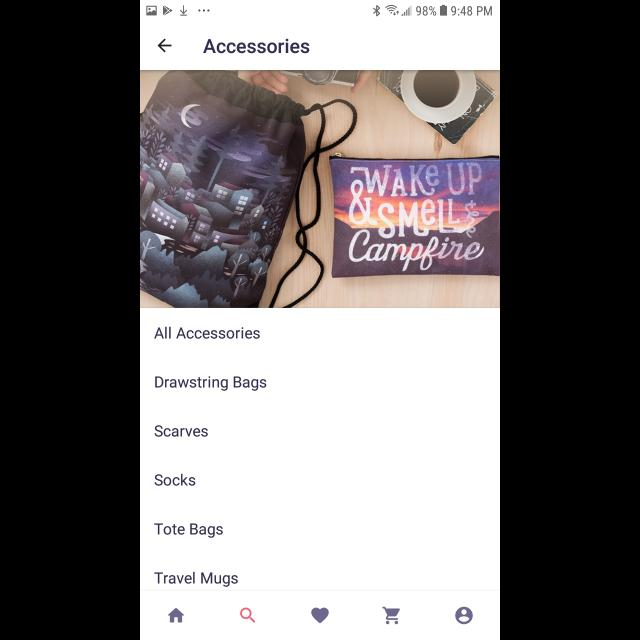icon: (382, 606, 400, 624), (455, 607, 473, 625), (311, 607, 329, 623), (240, 607, 256, 623), (169, 608, 185, 622), (158, 39, 172, 53)
image: (140, 71, 500, 309)
text: (155, 376, 267, 392), (204, 38, 310, 54), (154, 326, 260, 339), (154, 572, 238, 588), (154, 524, 223, 538), (155, 425, 209, 437), (154, 474, 196, 486)
uppertaskbar: (140, 1, 500, 18)
